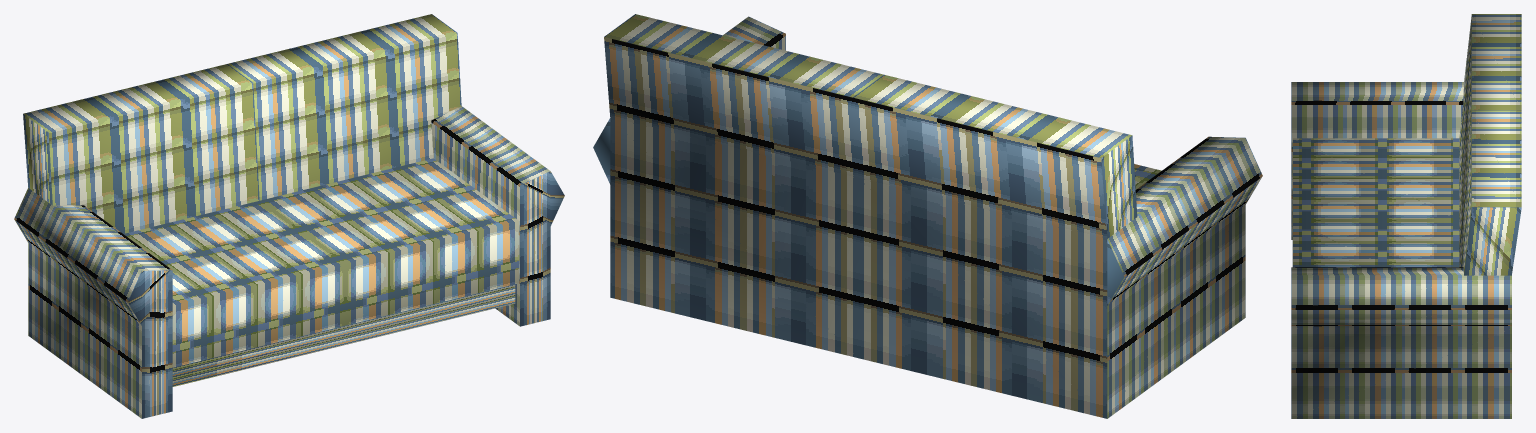
The model's file is 3114IMRL09_03.gltf.
3 renders of one model, left to right at view 1: azimuth 30°, elevation 25°; view 2: azimuth 150°, elevation 25°; view 3: azimuth 270°, elevation 25°, orthographic. The views are drawn at different scales.
Parts seen in each view (by area): view 1: 3114IMRL09_03; view 2: 3114IMRL09_03; view 3: 3114IMRL09_03.
Boxes of the visible parts, box(x1,y1,x2,y2) form: 3114IMRL09_03: box(14, 14, 564, 418); 3114IMRL09_03: box(593, 14, 1262, 418); 3114IMRL09_03: box(1291, 14, 1521, 418).
Size of the model in its own units: 1.92 by 0.9143 by 0.9033.
4 materials, 4 textured.
